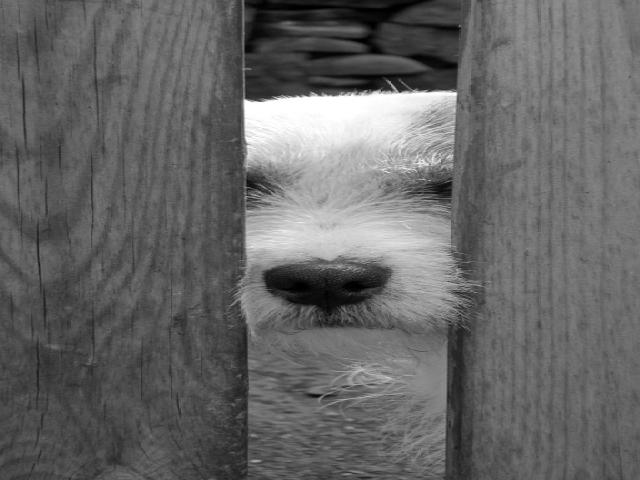Dog: (241, 79, 455, 480)
